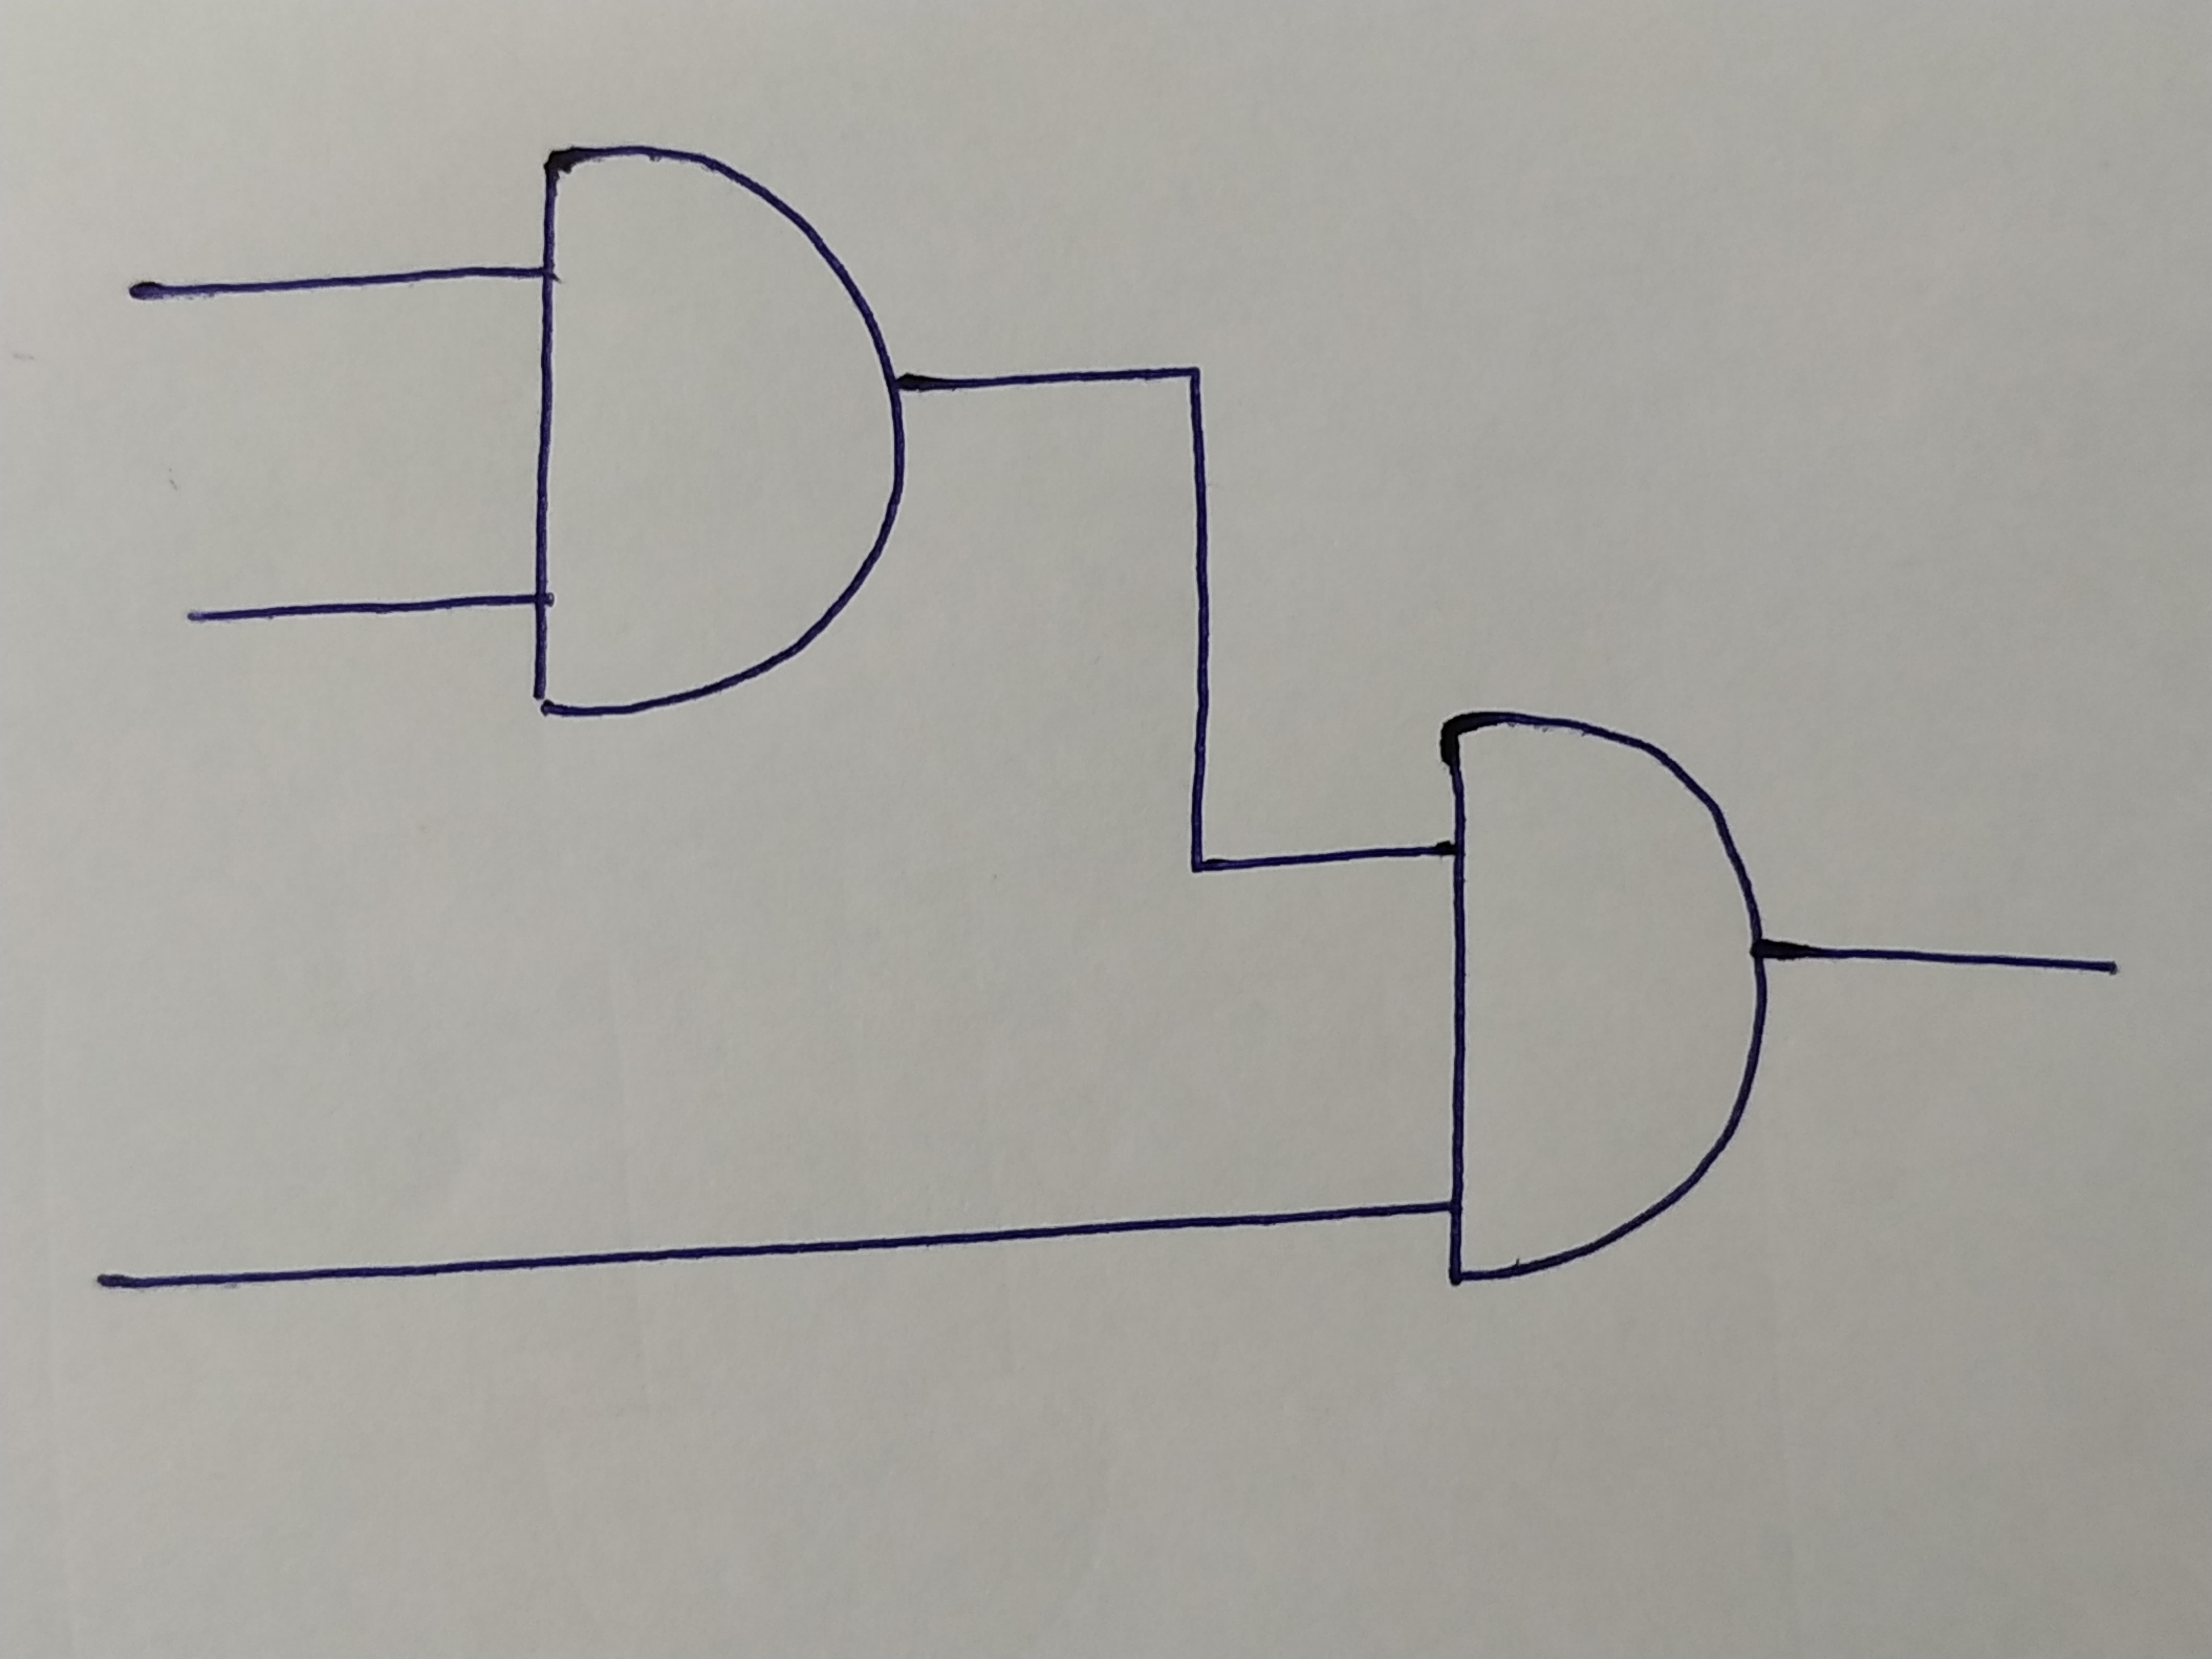and: (531, 148, 900, 714), (1442, 714, 1763, 1284)
